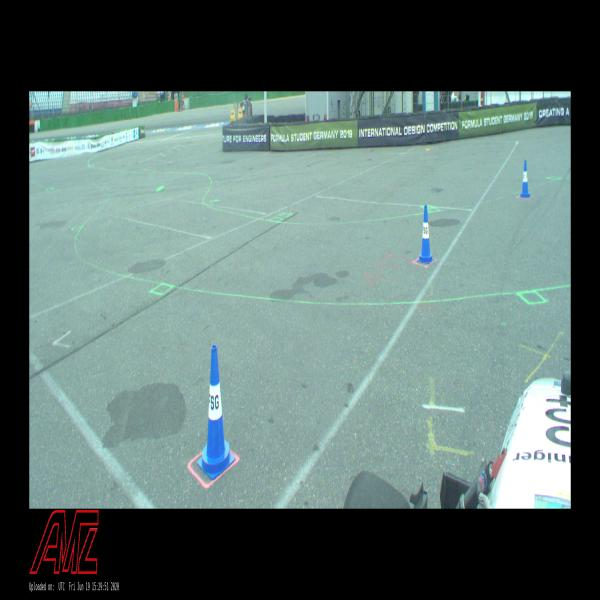blue_cone: (198, 345, 234, 479), (418, 206, 434, 264), (520, 160, 530, 199)
